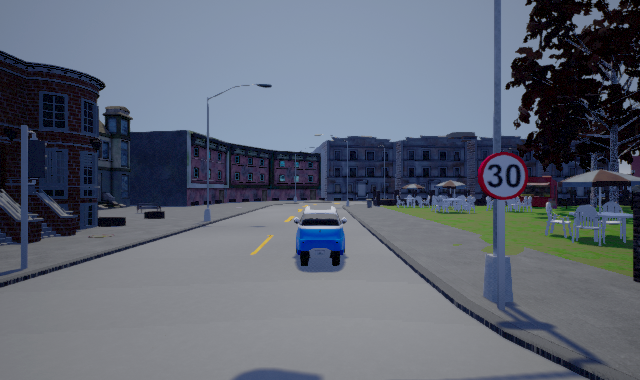traffic_sign: (477, 152, 528, 200)
vehicle: (294, 201, 346, 266)
